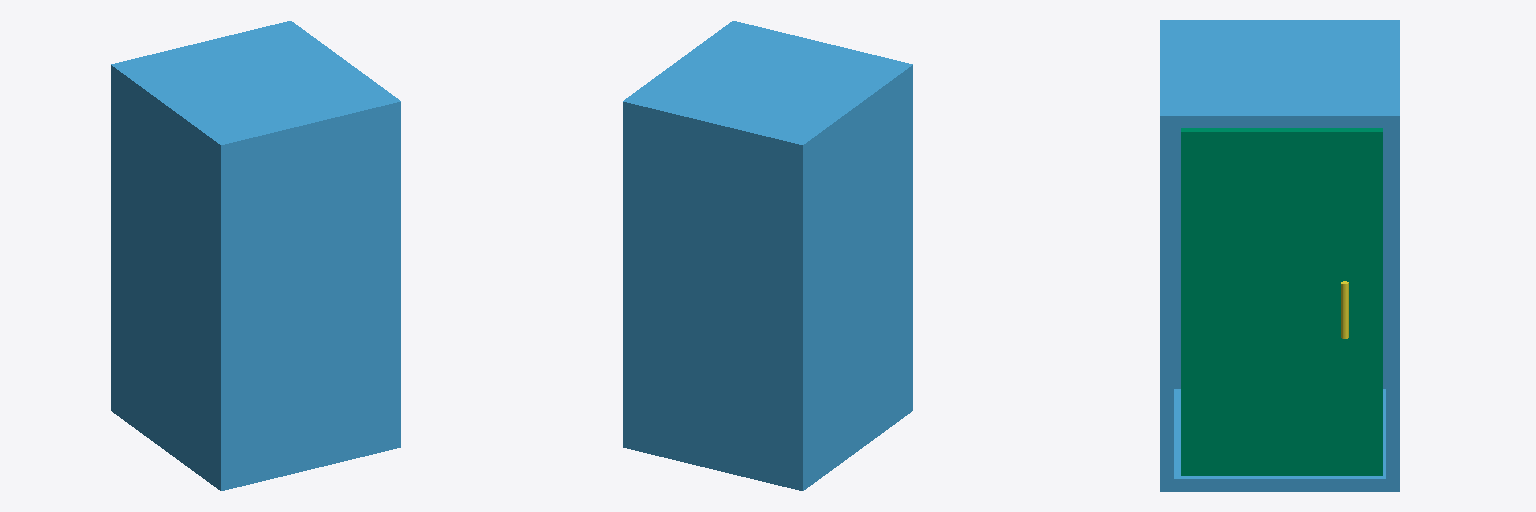
URDF robot description (my_cabinet):
<?xml version="1.0" ?>
<robot name="my_cabinet">
	<link name="world"/>
	<joint name="virtual_joint" type="fixed">
		<parent link="world"/>
		<child link="base_cabinet_link"/>
		<origin xyz="0.0 0.0 0.0" rpy="0.0 0.0 0.0"/>
	</joint>
	<link name="base_cabinet_link">
		<visual>
			<origin xyz="0.0 -0.0025 -0.2658795513267468" rpy="0.0 0.0 0.0"/>
			<geometry>
				<box size="0.3 0.31819977206411937 0.018"/>
			</geometry>
		</visual>
		<collision name="base_cabinet_link_collision_0">
			<origin xyz="0.0 -0.0025 -0.2658795513267468" rpy="0.0 0.0 0.0"/>
			<geometry>
				<box size="0.3 0.31819977206411937 0.018"/>
			</geometry>
		</collision>
		<visual>
			<origin xyz="0.0 0.1475998860320597 0.0" rpy="0.0 0.0 0.0"/>
			<geometry>
				<box size="0.3 0.018 0.5497591026534936"/>
			</geometry>
		</visual>
		<collision name="base_cabinet_link_collision_1">
			<origin xyz="0.0 0.1475998860320597 0.0" rpy="0.0 0.0 0.0"/>
			<geometry>
				<box size="0.3 0.018 0.5497591026534936"/>
			</geometry>
		</collision>
		<visual>
			<origin xyz="0.0 -0.1525998860320597 0.0" rpy="0.0 0.0 0.0"/>
			<geometry>
				<box size="0.3 0.018 0.5497591026534936"/>
			</geometry>
		</visual>
		<collision name="base_cabinet_link_collision_2">
			<origin xyz="0.0 -0.1525998860320597 0.0" rpy="0.0 0.0 0.0"/>
			<geometry>
				<box size="0.3 0.018 0.5497591026534936"/>
			</geometry>
		</collision>
		<visual>
			<origin xyz="0.0 -0.0025 0.2658795513267468" rpy="0.0 0.0 0.0"/>
			<geometry>
				<box size="0.3 0.31819977206411937 0.018"/>
			</geometry>
		</visual>
		<collision name="base_cabinet_link_collision_3">
			<origin xyz="0.0 -0.0025 0.2658795513267468" rpy="0.0 0.0 0.0"/>
			<geometry>
				<box size="0.3 0.31819977206411937 0.018"/>
			</geometry>
		</collision>
		<visual>
			<origin xyz="-0.141 -0.0025 0.0" rpy="0.0 0.0 0.0"/>
			<geometry>
				<box size="0.018 0.31819977206411937 0.5497591026534936"/>
			</geometry>
		</visual>
		<collision name="base_cabinet_link_collision_4">
			<origin xyz="-0.141 -0.0025 0.0" rpy="0.0 0.0 0.0"/>
			<geometry>
				<box size="0.018 0.31819977206411937 0.5497591026534936"/>
			</geometry>
		</collision>
		<inertial>
			<mass value="0.200000"/>
			<inertia ixx="0.006725" ixy="0.0" ixz="0.0" iyy="0.006537" iyz="0.0" izz="0.003188"/>
		</inertial>
	</link>
	<link name="door_link">
		<visual>
			<origin xyz="0.0 -0.1335998860320597 0.0"/>
			<geometry>
				<box size="0.018 0.2671997720641194 0.5037591026534936"/>
			</geometry>
		</visual>
		<collision name="door_link_collision">
			<origin xyz="0.0 -0.1335998860320597 0.0"/>
			<geometry>
				<box size="0.018 0.2671997720641194 0.5037591026534936"/>
			</geometry>
		</collision>
		<inertial>
			<mass value="0.200000"/>
			<inertia ixx="0.005419" ixy="0.0" ixz="0.0" iyy="0.004235" iyz="0.0" izz="0.001195"/>
		</inertial>
	</link>
	<joint name="door_joint" type="revolute">
		<origin xyz="0.141 -0.1335998860320597 0.0" rpy="0.000000 -0.000000 3.141593"/>
		<axis xyz="0 0 1"/>
		<parent link="base_cabinet_link"/>
		<child link="door_link"/>
		<limit effort="50" lower="-1.658062789394613" upper="0" velocity="10"/>
		<dynamics friction="3.5" damping="3.5"/>
	</joint>
	<link name="handle_link">
		<visual>
			<origin xyz="0.0 0.0 0.0" rpy="0.0 0.0 0.0"/>
			<geometry>
				<cylinder length="0.08" radius="0.005"/>
			</geometry>
		</visual>
		<collision name="handle_link_collision_0">
			<origin xyz="0.0 0.0 0.0" rpy="0.0 0.0 0.0"/>
			<geometry>
				<cylinder length="0.08" radius="0.005"/>
			</geometry>
		</collision>
		<visual>
			<origin xyz="-0.01 0.0 0.02" rpy="0.0 1.5707963267948966 0.0"/>
			<geometry>
				<cylinder length="0.02" radius="0.003"/>
			</geometry>
		</visual>
		<collision name="handle_link_collision_1">
			<origin xyz="-0.01 0.0 0.02" rpy="0.0 1.5707963267948966 0.0"/>
			<geometry>
				<cylinder length="0.01" radius="0.003"/>
			</geometry>
		</collision>
		<visual>
			<origin xyz="-0.01 0.0 -0.02" rpy="0.0 1.5707963267948966 0.0"/>
			<geometry>
				<cylinder length="0.02" radius="0.003"/>
			</geometry>
		</visual>
		<collision name="handle_link_collision_2">
			<origin xyz="-0.01 0.0 -0.02" rpy="0.0 1.5707963267948966 0.0"/>
			<geometry>
				<cylinder length="0.02" radius="0.003"/>
			</geometry>
		</collision>
		<inertial>
			<mass value="0.050000"/>
			<inertia ixx="0.000027" ixy="0.0" ixz="0.0" iyy="0.000029" iyz="0.0" izz="0.000003"/>
		</inertial>
	</link>
	<joint name="handle_joint" type="fixed">
		<origin xyz="-0.028999999999999998 -0.2171997720641194 0.0" rpy="0.000000 -0.000000 3.141593"/>
		<parent link="door_link"/>
		<child link="handle_link"/>
	</joint>
	<gazebo reference="base_cabinet_link">
		<sensor name="main_sensor" type="contact">
			<selfCollide>true</selfCollide>
			<alwaysOn>true</alwaysOn>
			<updateRate>5.0</updateRate>
			<material>Gazebo/Red</material>
			<contact>
				<collision>base_cabinet_link_collision_0_collision</collision>
				<collision>base_cabinet_link_collision_1_collision</collision>
				<collision>base_cabinet_link_collision_2_collision</collision>
				<collision>base_cabinet_link_collision_3_collision</collision>
				<collision>base_cabinet_link_collision_4_collision</collision>
			</contact>
			<plugin name="gazebo_ros_bumper_controller" filename="libgazebo_ros_bumper.so">
				<bumperTopicName>/contact</bumperTopicName>
				<frameName>world</frameName>
			</plugin>
		</sensor>
	</gazebo>
	<gazebo reference="door_link">
		<sensor name="main_sensor" type="contact">
			<selfCollide>true</selfCollide>
			<alwaysOn>true</alwaysOn>
			<updateRate>5.0</updateRate>
			<material>Gazebo/Red</material>
			<contact>
				<collision>door_link_collision_collision</collision>
			</contact>
			<plugin name="gazebo_ros_bumper_controller" filename="libgazebo_ros_bumper.so">
				<bumperTopicName>/contact_door</bumperTopicName>
				<frameName>contact_door</frameName>
			</plugin>
		</sensor>
	</gazebo>
	<gazebo reference="door_link">
		<mu>3.0</mu>
		<mu2>3.0</mu2>
		<kp>10000000</kp>
		<kd>100</kd>
	</gazebo>
</robot>

--- Render facts (derived) ---
Views: 3 orthographic renders of the robot side by side, from view 1: azimuth 30°, elevation 25°; view 2: azimuth 150°, elevation 25°; view 3: azimuth 270°, elevation 25°.
Model my_cabinet with 4 links and 3 joints (1 revolute, 2 fixed), rooted at world, posed every joint at zero.
Visible links, largest first — view 1: base_cabinet_link; view 2: base_cabinet_link; view 3: door_link, base_cabinet_link.
Link boxes in pixels (<box>): base_cabinet_link: <box>111,21,400,490</box>; base_cabinet_link: <box>623,21,912,490</box>; door_link: <box>1181,128,1382,475</box>; base_cabinet_link: <box>1160,20,1399,491</box>.
Bounding box of the posed robot: 0.325 × 0.3182 × 0.5498 m (x, y, z).
Geometry: primitives only (box / cylinder / sphere), no mesh files.
